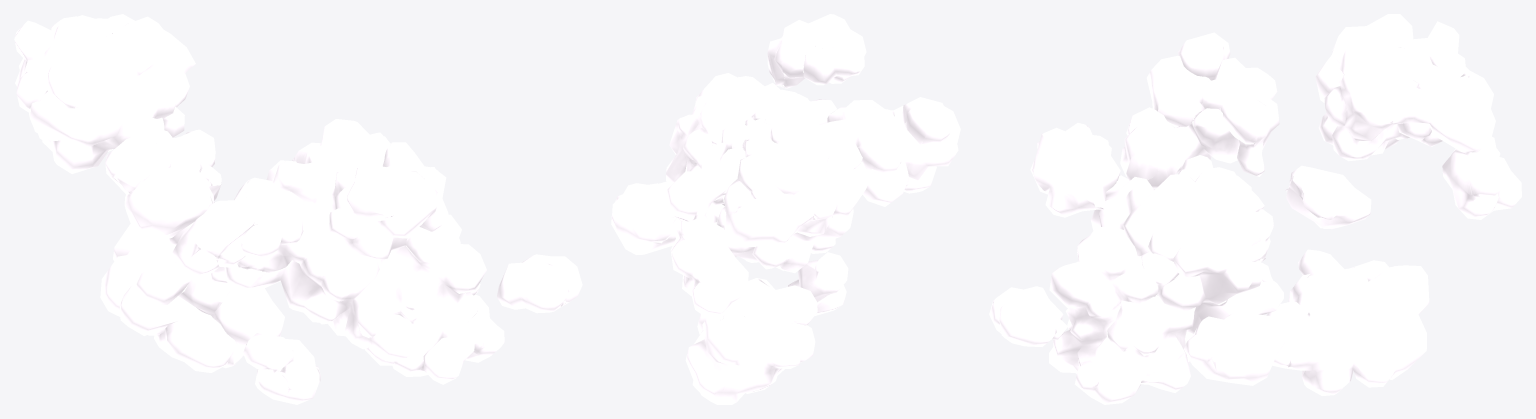
The model's file is clouds-CeObuQHs.glb.
3 renders of one model, left to right at view 1: azimuth 30°, elevation 25°; view 2: azimuth 150°, elevation 25°; view 3: azimuth 270°, elevation 25°, orthographic. The views are drawn at different scales.
Visible parts, largest first — view 1: base1; view 2: base1; view 3: base1.
Boxes of the visible parts, left/top/right/bottom form: base1: left=14, top=14, right=582, bottom=404; base1: left=611, top=14, right=960, bottom=404; base1: left=989, top=14, right=1521, bottom=404.
Size of the model in its own units: 15.36 by 13.69 by 20.29.
Materials: 1 (1 with a texture image).
